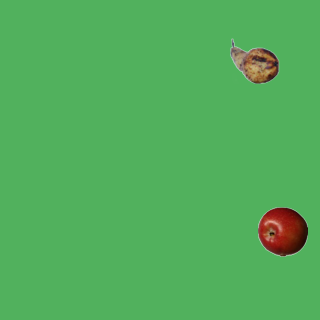Apple Braeburn: (257, 206, 307, 256)
Pear Abate: (229, 36, 279, 86)
